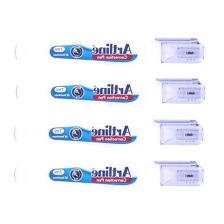correction_fluid: (12, 156, 205, 191), (12, 75, 208, 108), (12, 35, 207, 68), (13, 118, 206, 148)
